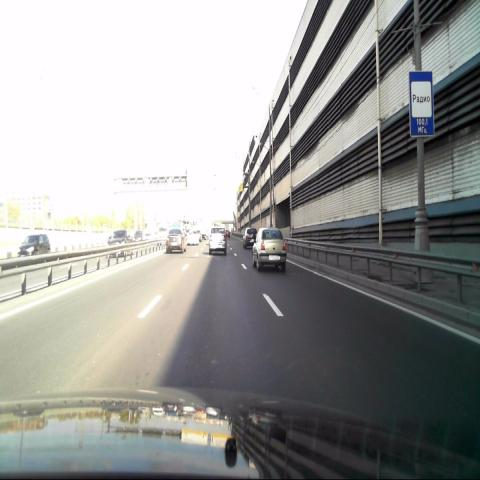7_15: (410, 71, 434, 136)
